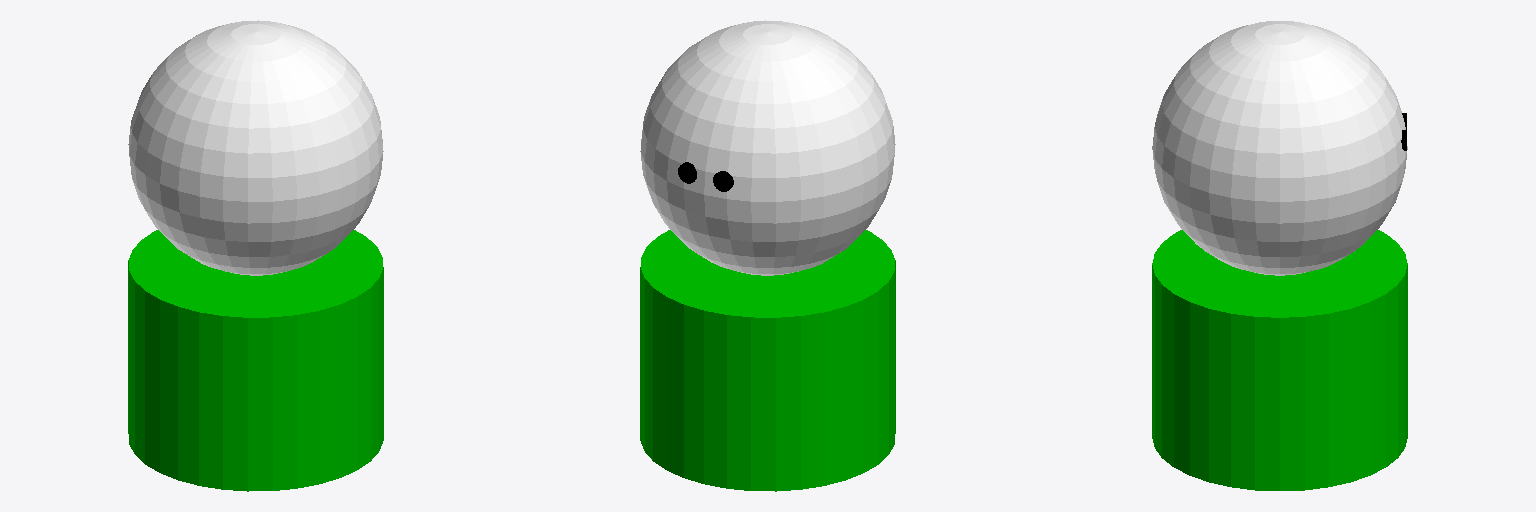
robot.urdf — mira:
<robot name="mira">
<material name="green">
<color rgba="0 0.8 0 1"/>
</material>
<material name="grey">
<color rgba="0.75 0.75 0.75 1"/>
</material>
<material name="red">
<color rgba="0.0 0 0 1"/>
</material>
<material name="blue">
<color rgba="0 0 0.8 1"/>
</material>
<material name="white">
<color rgba="1.0 1.0 1.0 1"/>
</material>
<material name="black">
<color rgba="0.0 0.0 0.0 1"/>
</material>
<link name="dummy"> </link>
<!--
hago este cambio debido a un mensaje de error que me daba y teniendo en cuento lo que se dice en 
     https://answers.ros.org/question/192817/error-msg-the-root-link_base-has-an-inertia-specified-in-the-urdf-but-kdl/ 
-->
<link name="base_link">
<visual>
<origin rpy="0 0 0" xyz="0 0 0"/>
<geometry>
<cylinder radius="0.04" length="0.09"/>
</geometry>
<material name="green"/>
</visual>
<collision>
<geometry>
<cylinder radius="0.04" length="0.09"/>
</geometry>
<origin rpy="0 0 0" xyz="0 0 0"/>
</collision>
<inertial>
<origin xyz="0 0 0"/>
<mass value="2.4"/>
<inertia ixx="0.019995" ixy="0.0" ixz="0.0" iyy="0.019995" iyz="0.0" izz="0.03675"/>
</inertial>
</link>
<joint name="dummy_joint" type="fixed">
<parent link="dummy"/>
<child link="base_link"/>
</joint>
<link name="base_external_link">
<visual>
<origin rpy="0 0 0" xyz="0 0 0"/>
<geometry>
<cylinder radius="0.06" length="0.09"/>
</geometry>
<material name="green"/>
</visual>
<collision>
<geometry>
<cylinder radius="0.04" length="0.09"/>
</geometry>
<origin rpy="0 0 0" xyz="0 0 0"/>
</collision>
<inertial>
<origin xyz="0 0 0"/>
<mass value="2.4"/>
<inertia ixx="0.019995" ixy="0.0" ixz="0.0" iyy="0.019995" iyz="0.0" izz="0.03675"/>
</inertial>
</link>
<joint name="base_external_joint" type="continuous">
<parent link="base_link"/>
<child link="base_external_link"/>
<origin xyz="0 0 0" rpy="0 0 0"/>
<axis xyz="1 0 0"/>
</joint>
<gazebo reference="base_link">
<mu1>0.3</mu1>
<mu2>0.3</mu2>
</gazebo>
<link name="head_link">
<visual>
<origin rpy="0 0 0" xyz="0 0 0"/>
<geometry>
<sphere radius="0.06"/>
</geometry>
<material name="white"/>
</visual>
<collision>
<geometry>
<sphere radius="0.06"/>
</geometry>
<origin rpy="0 0 0" xyz="0 0 0"/>
</collision>
<inertial>
<origin xyz="0 0 0"/>
<mass value="2.4"/>
<inertia ixx="0.019995" ixy="0.0" ixz="0.0" iyy="0.019995" iyz="0.0" izz="0.03675"/>
</inertial>
</link>
<gazebo reference="head_link">
<mu1>1.0</mu1>
<mu2>1.0</mu2>
<kp>1000000.0</kp>
<kd>100.0</kd>
<minDepth>0.001</minDepth>
<maxVel>1.0</maxVel>
</gazebo>
<joint name="base_head_joint" type="continuous">
<parent link="base_link"/>
<child link="head_link"/>
<origin xyz="0 0 0.105" rpy="0 0 0"/>
<axis xyz="0 0 1"/>
</joint>
<!--
 Ahora le voy a poner ojos al robot para poder distinguir con claridad la posicion de la cabeza 
-->
<link name="left_eye_link">
<visual>
<origin rpy="0 0 0" xyz="0 0 0"/>
<geometry>
<cylinder radius="0.005" length="0.005"/>
</geometry>
<material name="black"/>
</visual>
</link>
<gazebo reference="left_eye_link">
<material>Gazebo/Blue</material>
</gazebo>
<joint name="left_eye_joint" type="fixed">
<parent link="head_link"/>
<child link="left_eye_link"/>
<origin xyz="0.0095 0.057 0.0085" rpy="-1.5708 0 0"/>
</joint>
<link name="right_eye_link">
<visual>
<origin rpy="0 0 0" xyz="0 0 0"/>
<geometry>
<cylinder radius="0.005" length="0.005"/>
</geometry>
<material name="black"/>
</visual>
</link>
<gazebo reference="right_eye_link">
<material>Gazebo/Blue</material>
</gazebo>
<joint name="right_eye_joint" type="fixed">
<parent link="head_link"/>
<child link="right_eye_link"/>
<origin xyz="-0.0095 0.057 0.0085" rpy="-1.5708 0 0"/>
</joint>
<!--gazebo -->
<!--
 plugin name="object_controller" filename="libgazebo_ros_planar_move.so" 
-->
<!--commandTopic>cmd_vel</commandTopic-->
<!--odometryTopic>odom</odometryTopic-->
<!--odometryFrame>odom</odometryFrame-->
<!-- odometryRate>20.0</odometryRate-->
<!--robotBaseFrame>head_link</robotBaseFrame-->
<!--/plugin-->
<!--/gazebo-->
     <gazebo>
          <plugin name="gazebo_ros_control" filename="libgazebo_ros_control.so">
               <robotNamespace>/modelo_roberto</robotNamespace>
               <!--La linea que pongo a continuacion la introduzco pues me da un error si no lo hago-->
               <legacyModeNS>true</legacyModeNS>
          </plugin>
     </gazebo>

     <transmission name="tran1">
          <type>transmission_interface/SimpleTransmission</type>
          <joint name="base_head_joint">
               <!--hardwareInterface>EffortJointInterface</hardwareInterface (esta linea la actualice debido a warning que daba)-->
               <hardwareInterface>hardware_interface/EffortJointInterface</hardwareInterface>
          </joint>

          <actuator name="motor_cabeza">
               <!--hardwareInterface>EffortJointInterface</hardwareInterface-->
               <mechanicalReduction>1</mechanicalReduction>
          </actuator>
     </transmission>
</robot>

--- Render facts (derived) ---
Views: 3 orthographic renders of the robot side by side, from view 1: azimuth 30°, elevation 25°; view 2: azimuth 150°, elevation 25°; view 3: azimuth 270°, elevation 25°.
Robot: mira — 6 links, 5 joints (2 continuous, 3 fixed); root link dummy; default pose: every joint at zero.
Visible links, largest first — view 1: base_external_link, head_link, base_link; view 2: base_external_link, head_link, base_link; view 3: base_external_link, head_link, base_link.
Boxes of the visible links, x1,y1,x2,y2 form: base_external_link: (128,230,383,491); head_link: (128,20,383,275); base_link: (171,249,340,295); base_external_link: (640,230,895,491); head_link: (640,20,895,275); base_link: (683,250,852,296); base_external_link: (1152,230,1407,490); head_link: (1152,21,1407,275); base_link: (1199,249,1362,299).
Size in the robot's own frame: 0.12 by 0.12 by 0.21 metres.
Geometry: primitives only (box / cylinder / sphere), no mesh files.
